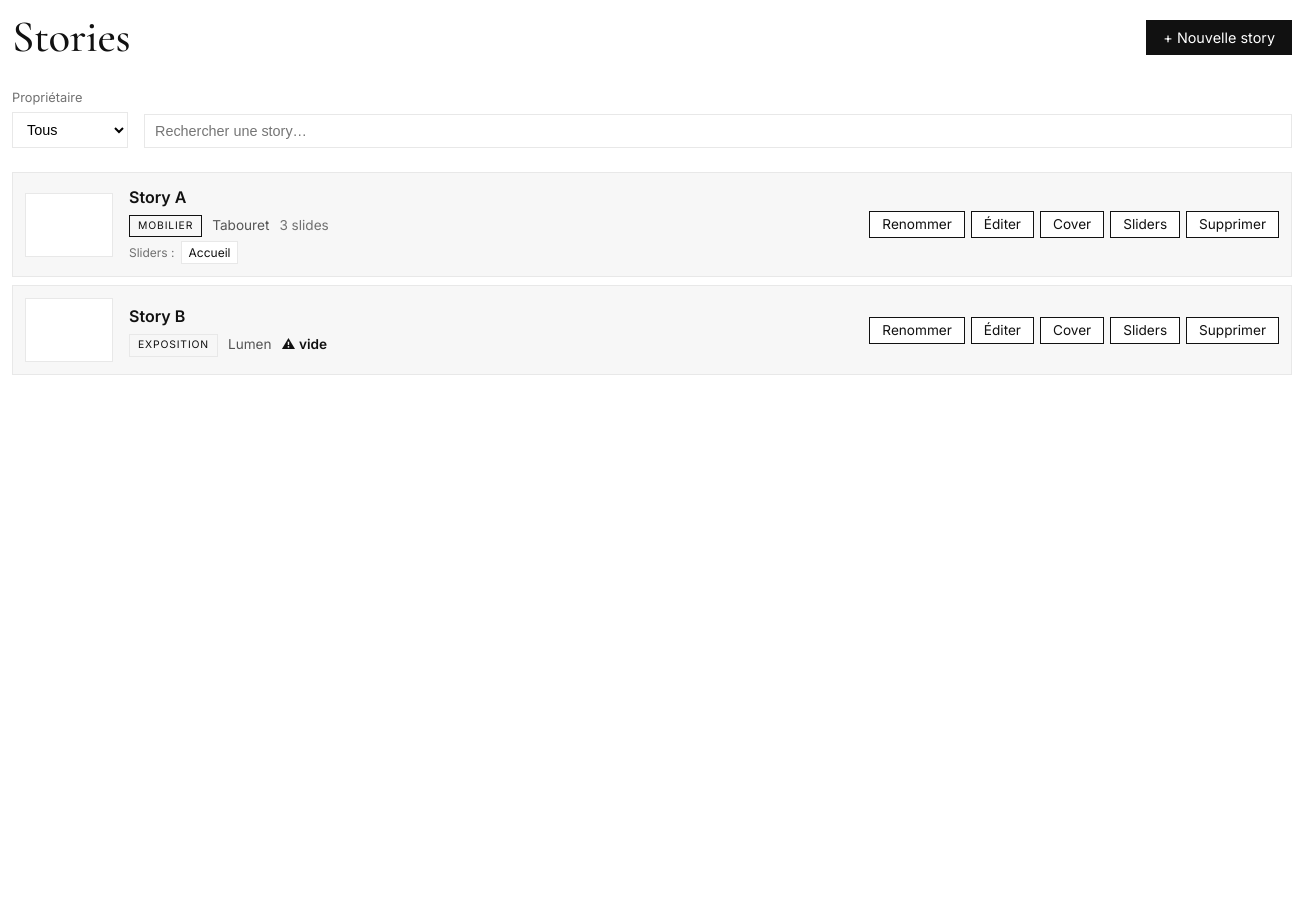
Test: StoriesAdminComponent › édition du cover › cliquer Cover ouvre l'éditeur avec un <app-image-field>
Click the button "Cover" in the row of "Mobilier" at (1072,225), box [1040, 211, 1104, 238]
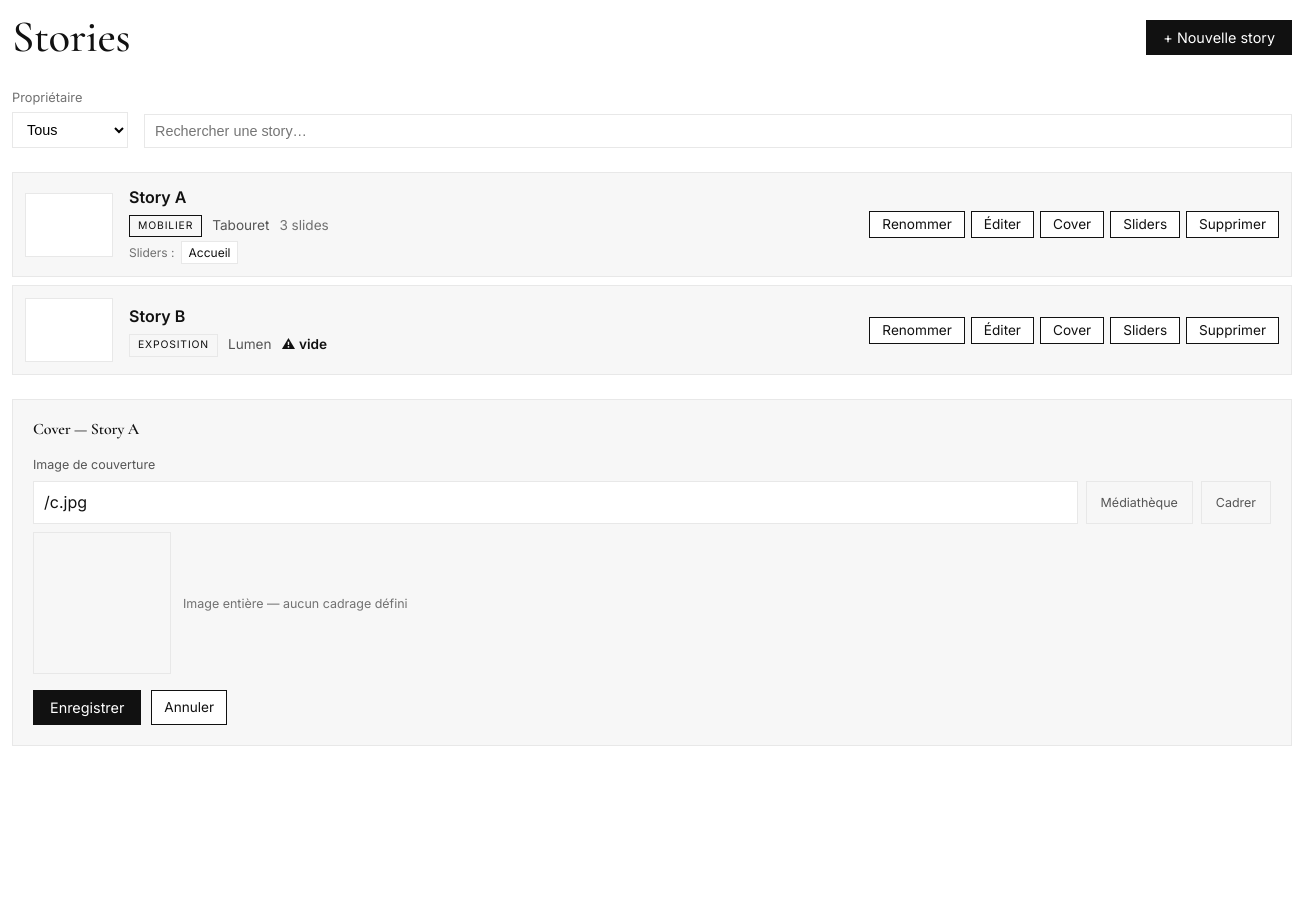
Now the element that starts with "Image de couverture" is shown, box [33, 455, 1271, 674]
